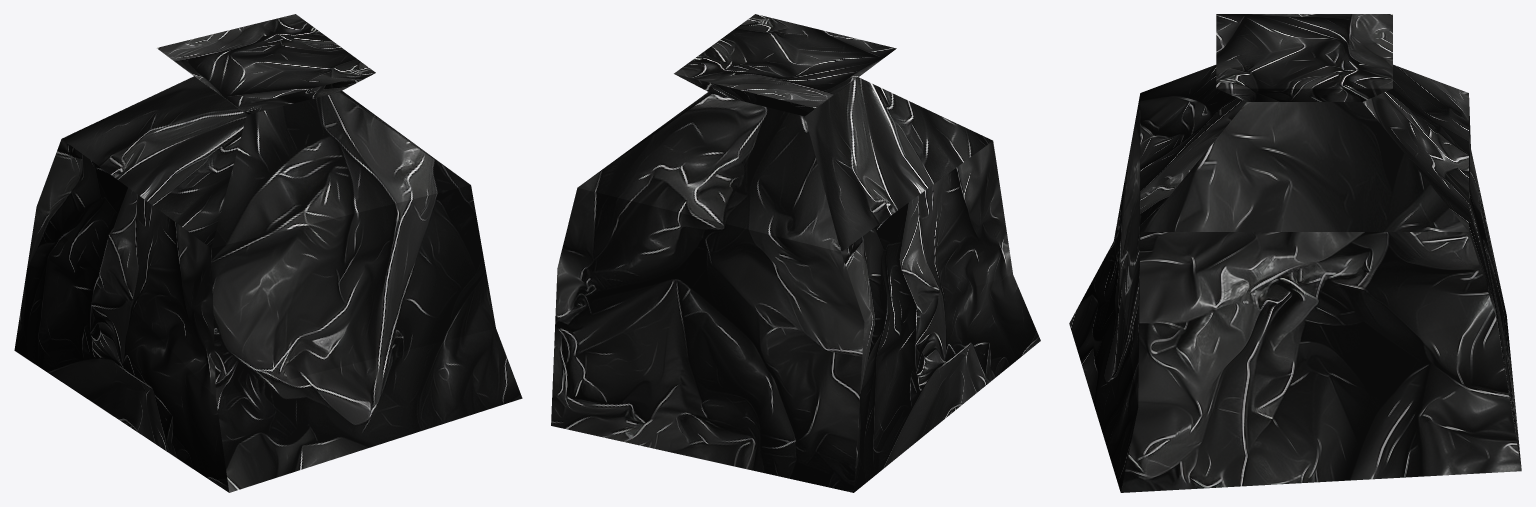
Rendered from trash.fbx.
3 views of the same model, side by side, from view 1: azimuth 30°, elevation 25°; view 2: azimuth 150°, elevation 25°; view 3: azimuth 270°, elevation 25° (orthographic). The views are drawn at different scales.
Visible parts, largest first — view 1: trash; view 2: trash; view 3: trash.
Part boxes in pixels (box(x1,y1,x2,y2)): trash: box(14, 14, 522, 492); trash: box(551, 14, 1040, 492); trash: box(1069, 14, 1521, 492).
Size of the model in its own units: 32.94 by 30.21 by 35.46.
